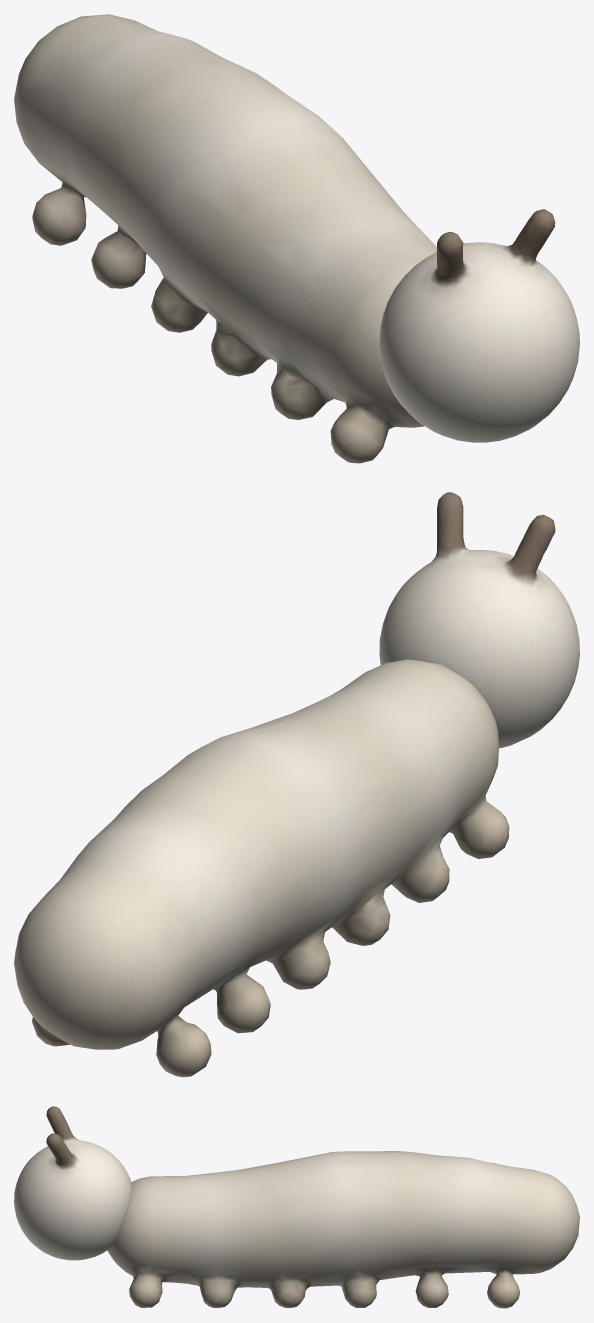
Rendered from animal_silkworm.glb.
3 renders of one model, top to bottom at view 1: azimuth 30°, elevation 25°; view 2: azimuth 150°, elevation 25°; view 3: azimuth 270°, elevation 25°, orthographic. The views are drawn at different scales.
Parts seen in each view (by area): view 1: animal_silkworm, head; view 2: animal_silkworm, head; view 3: animal_silkworm, head.
Part boxes in pixels (x1,y1,x2,y2): animal_silkworm: [14, 14, 436, 463]; head: [379, 209, 579, 442]; animal_silkworm: [14, 659, 509, 1077]; head: [379, 492, 579, 748]; animal_silkworm: [107, 1151, 579, 1308]; head: [14, 1106, 132, 1260].
Size of the model in its own units: 0.056 by 0.078 by 0.2372.
Materials: 1 (1 with a texture image).
